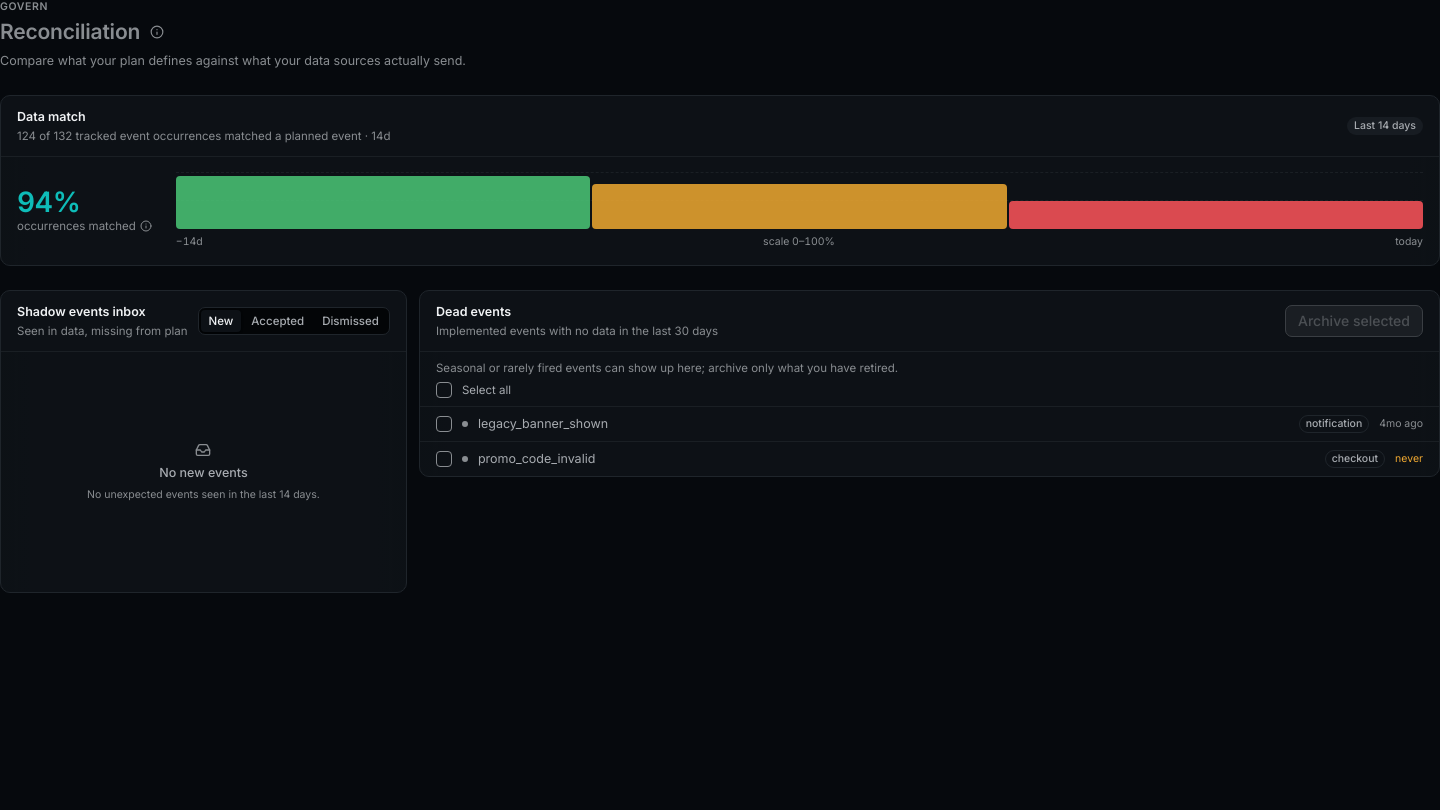
Test: ReconciliationPage › surfaces an error and keeps the selection when archive fails
The image size is (1440, 810).
Click the checkbox named "Select legacy_banner_shown". click: [444, 424]
box: [436,416,452,432]
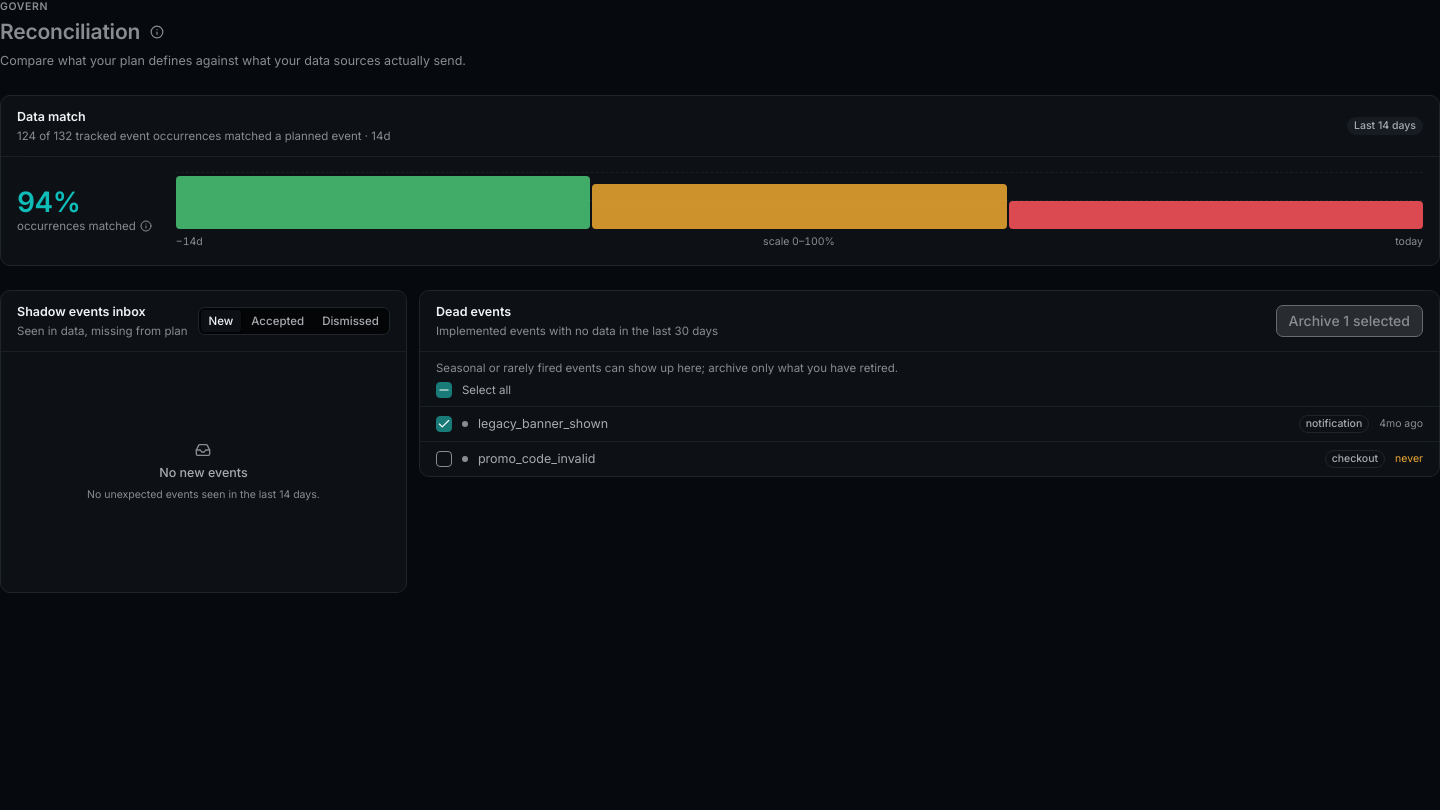
Click the button "Archive 1 selected". click: [1349, 321]
box: [1276,305,1423,337]
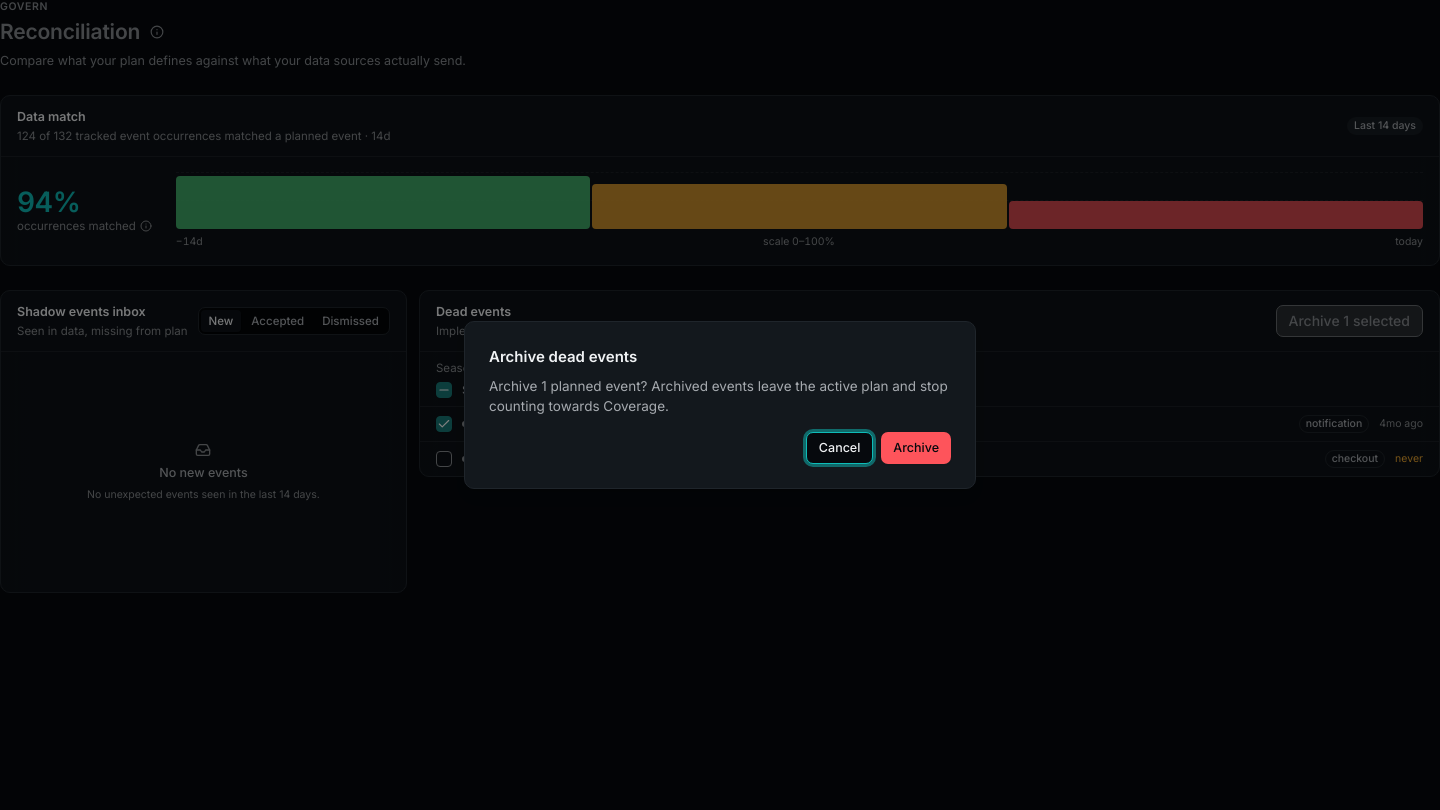
Click the button "Archive". click: [916, 448]
box: [881,432,951,464]
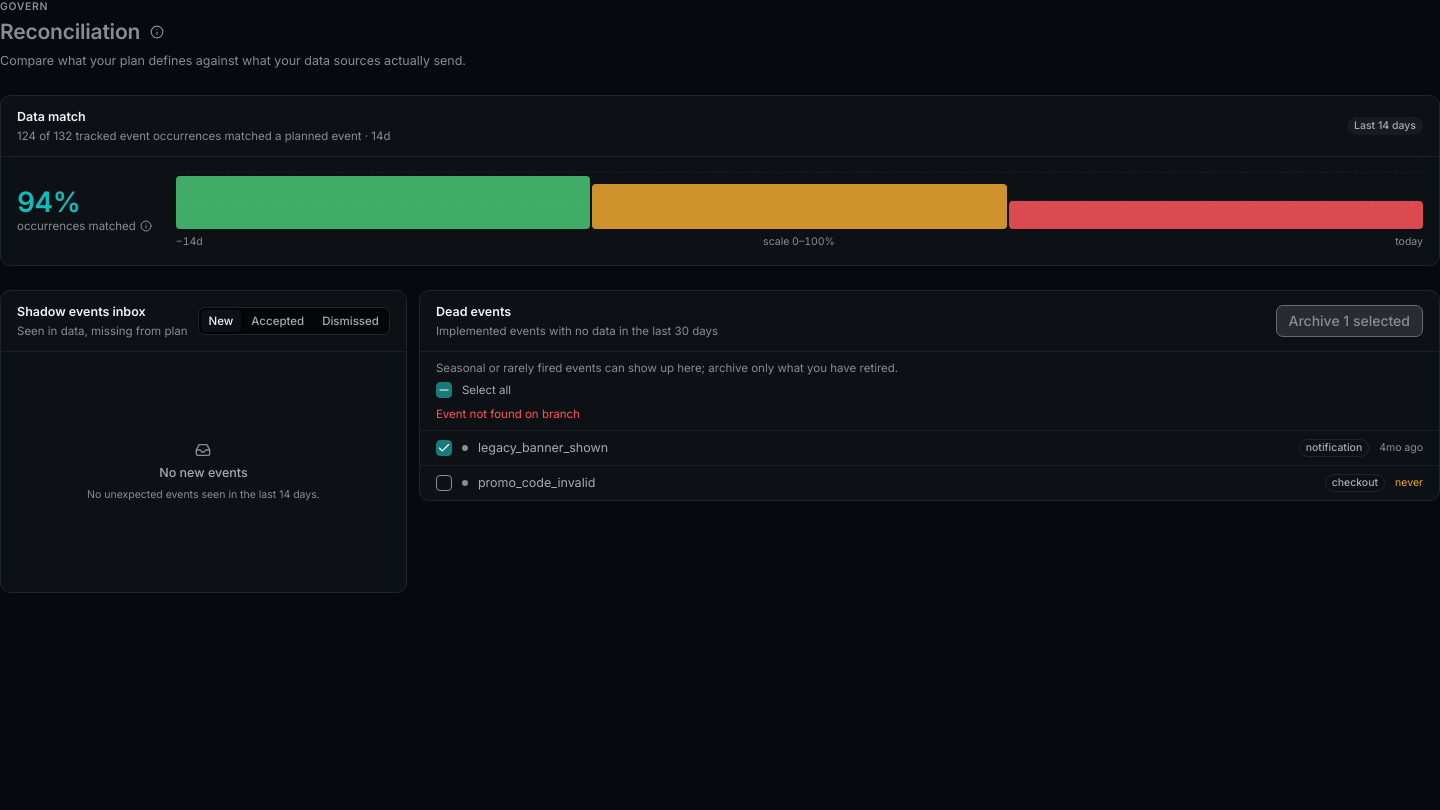
Check: the link "legacy_banner_shown" is shown, box [478,440,608,455]
Check: the button "Archive 1 selected" is shown, box [1276,305,1423,337]
Check: the message reads "Event not found on branch", box [436,407,580,421]
